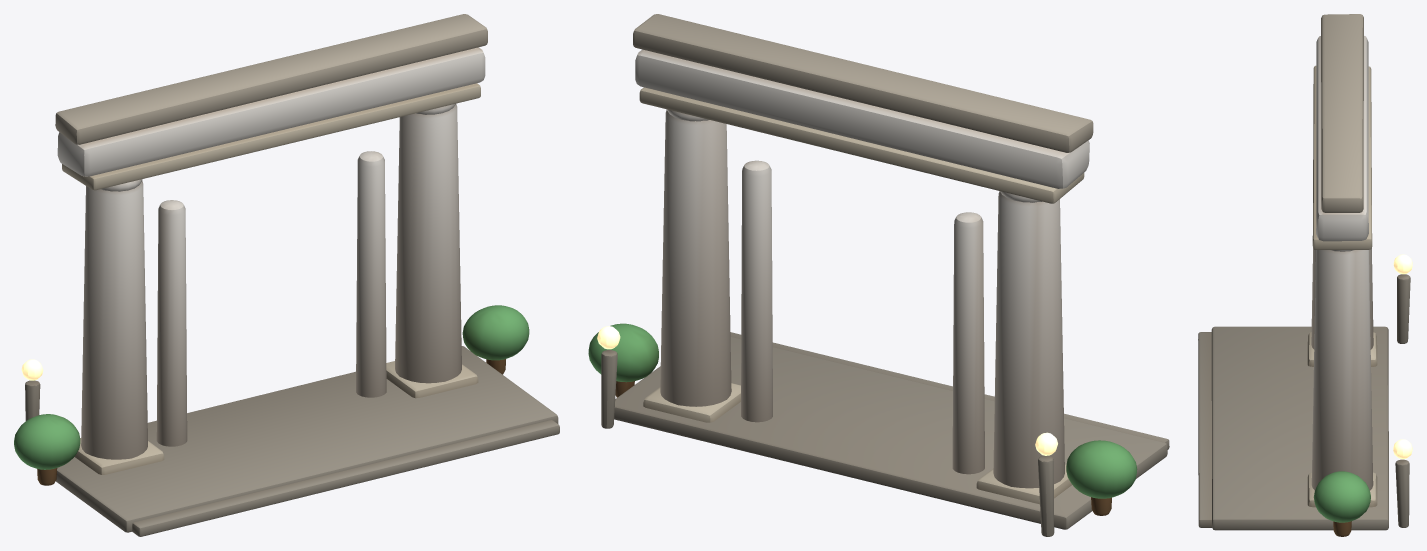
3 views of the same model, side by side, from view 1: azimuth 30°, elevation 25°; view 2: azimuth 150°, elevation 25°; view 3: azimuth 270°, elevation 25° (orthographic). The views are drawn at different scales.
Visible parts, largest first — view 1: gate_29c813a4; view 2: gate_29c813a4; view 3: gate_29c813a4.
Part boxes in pixels (x1,y1,x2,y2): gate_29c813a4: (14,14,559,536); gate_29c813a4: (588,14,1169,536); gate_29c813a4: (1198,14,1412,536).
Bounding box in the file's own units: 6.39 × 4.33 × 2.55.
